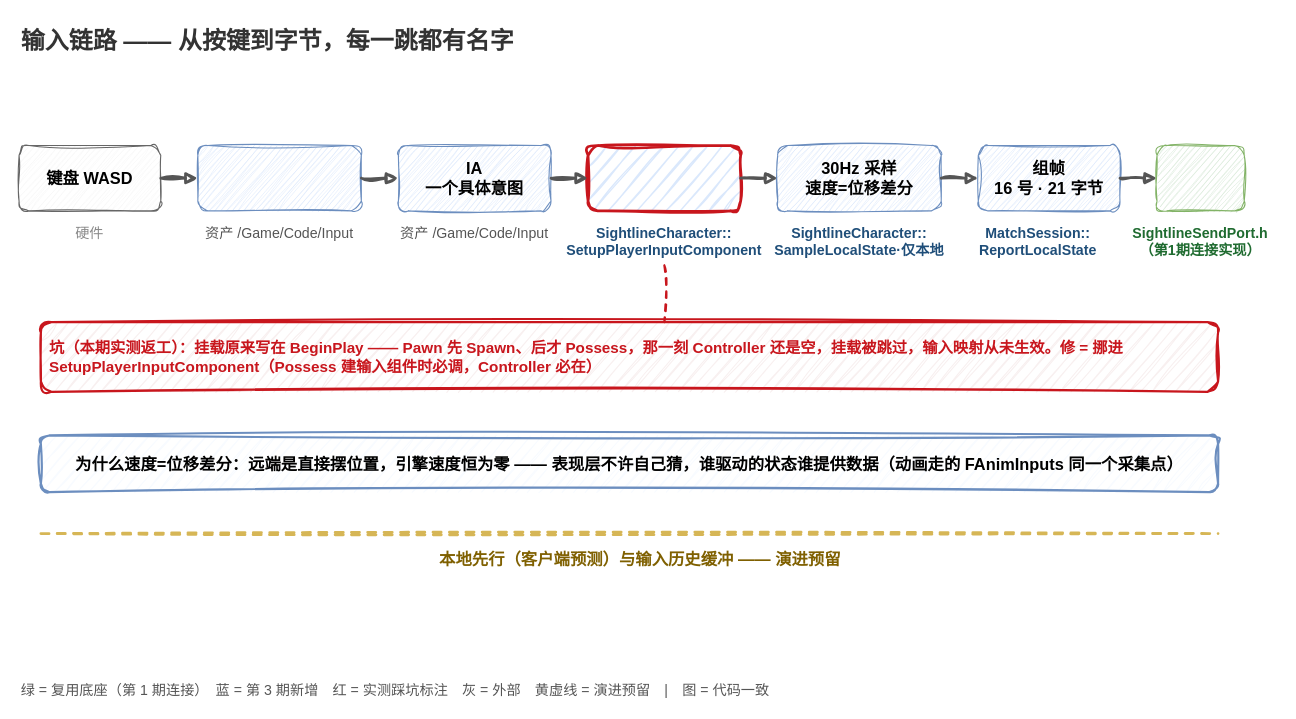
The diagram is 1296 pixels wide and 719 high, and some of its shapes have lost their labels. Each missing label, with the centre of its shape:
"IMC 「按键→意图」接线表" belongs at (x=279, y=177).
"IMC 挂载 （时机是坑）" belongs at (x=664, y=178).
"ISendPort 发送" belongs at (x=1200, y=177).
